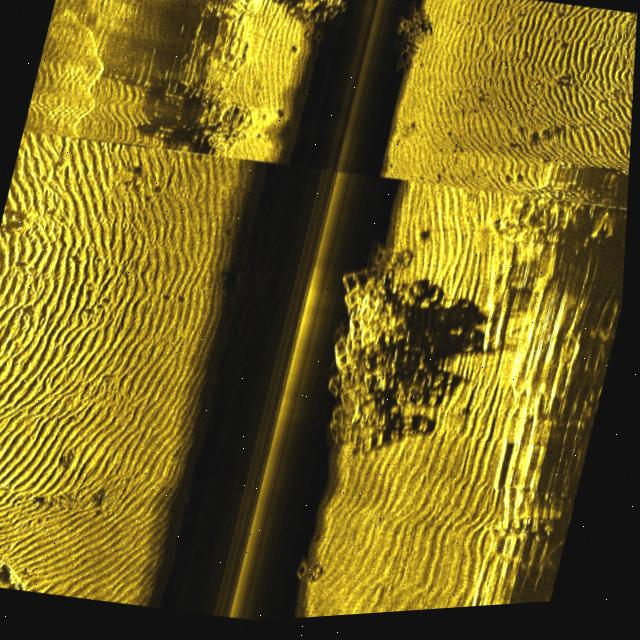artificial reef: (299, 219, 463, 476), (377, 5, 435, 89), (292, 0, 353, 49), (295, 556, 338, 601)
